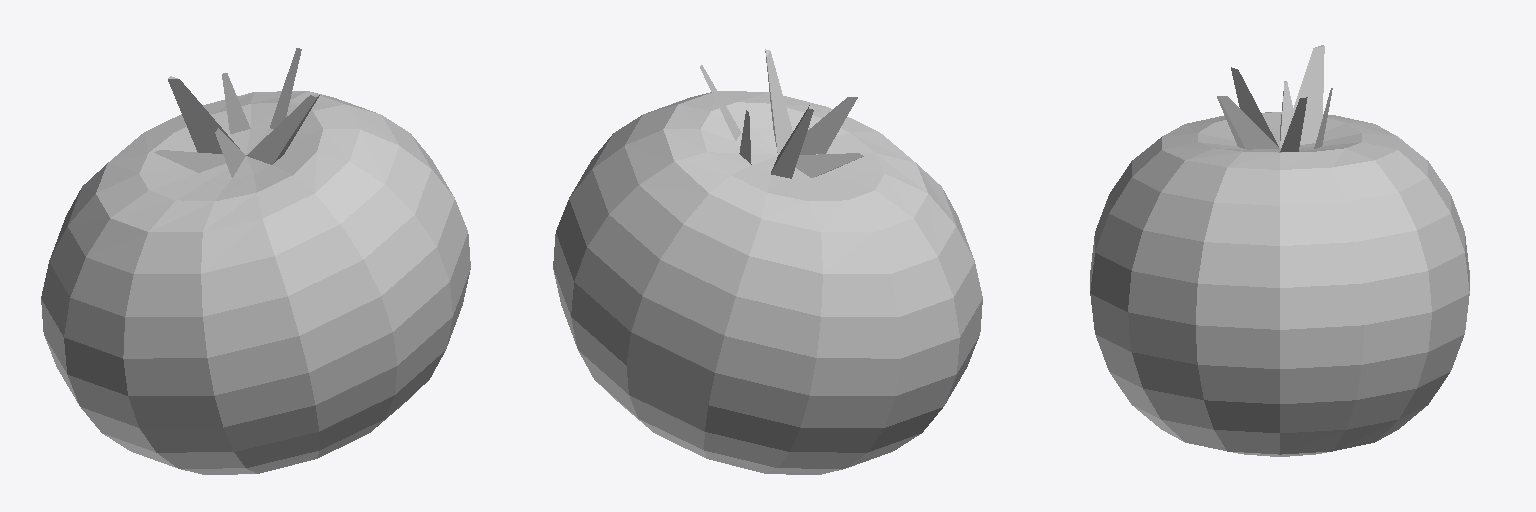
File: tomato.obj
3 renders of one model, left to right at view 1: azimuth 30°, elevation 25°; view 2: azimuth 150°, elevation 25°; view 3: azimuth 270°, elevation 25°, orthographic.
Parts seen in each view (by area): view 1: Tomato1; view 2: Tomato1; view 3: Tomato1.
Part boxes in pixels (x1,y1,x2,y2): Tomato1: (41, 48, 470, 474); Tomato1: (553, 49, 982, 474); Tomato1: (1090, 45, 1469, 456).
Size of the model in its own units: 2.95 by 2.73 by 2.53.